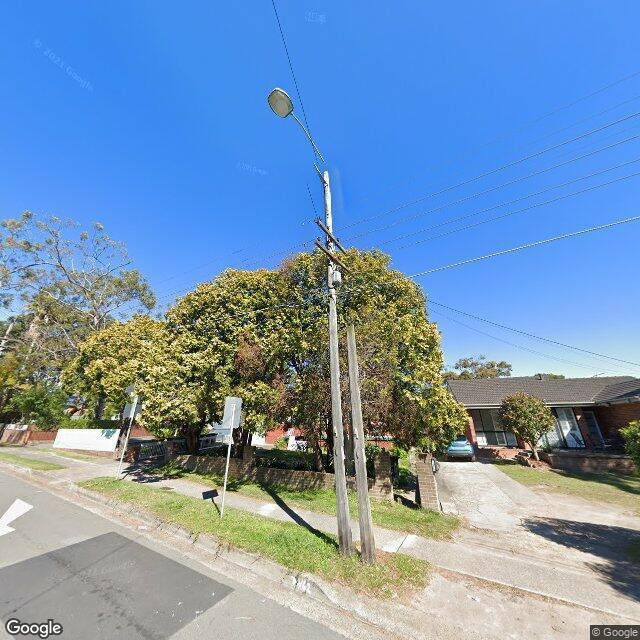crossarm: (315, 236, 351, 272), (315, 218, 347, 252)
streetlight: (268, 88, 328, 186)
timber-pole: (323, 171, 375, 565)
